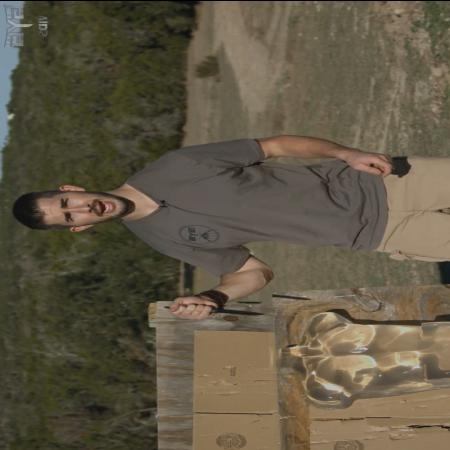long weapon: (164, 296, 266, 322)
